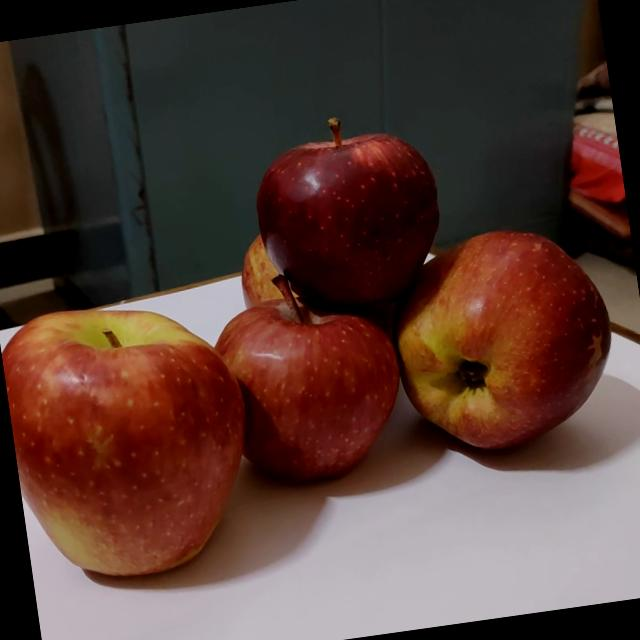apple: (0, 282, 271, 596), (377, 213, 632, 467), (202, 258, 419, 504), (239, 101, 454, 322), (232, 224, 308, 318)
